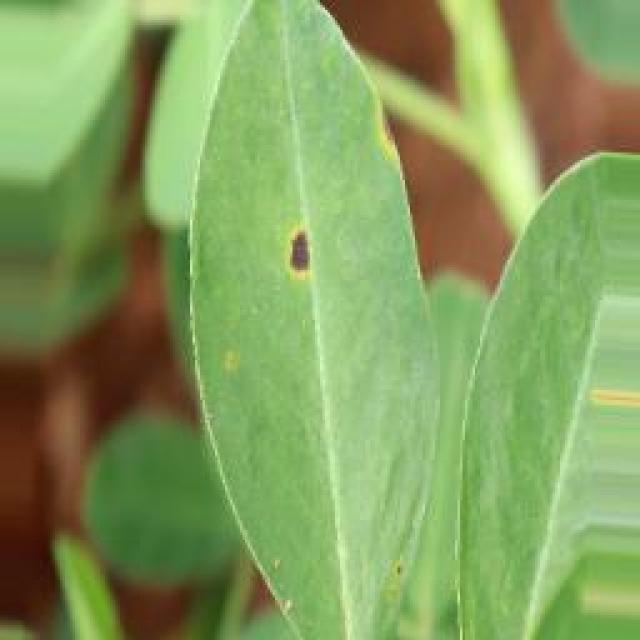Sigatoka: (258, 204, 318, 299), (568, 368, 640, 437), (207, 330, 260, 405), (363, 99, 404, 178)
